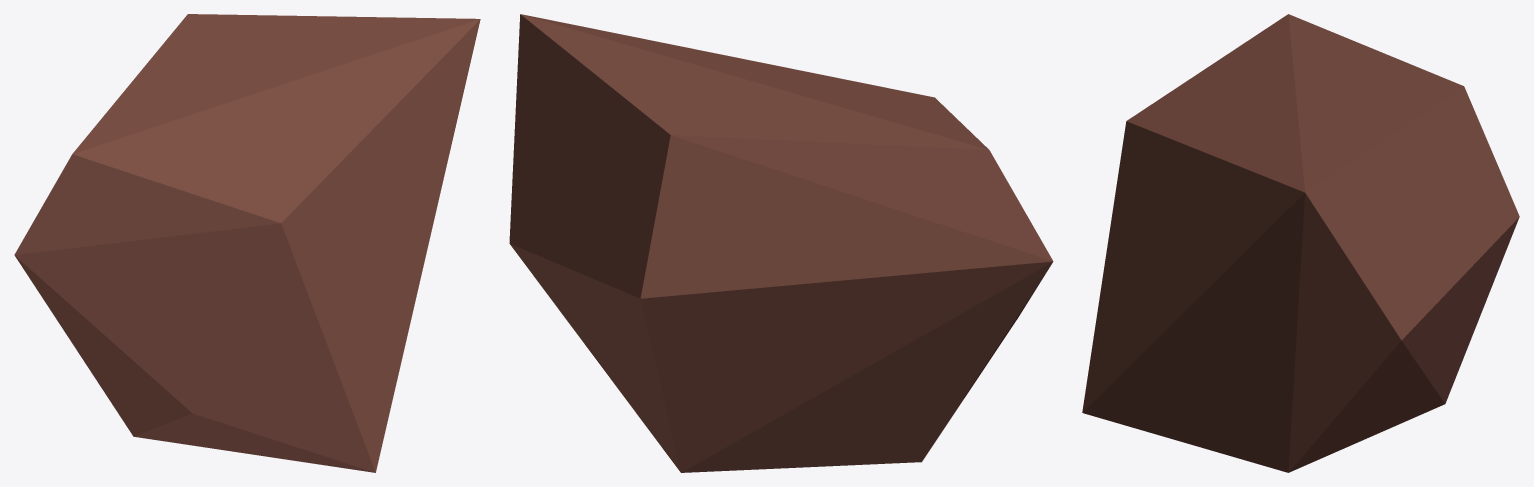
File: Rock-B09.fbx
The picture shows the model from 3 angles, left to right: view 1: azimuth 30°, elevation 25°; view 2: azimuth 150°, elevation 25°; view 3: azimuth 270°, elevation 25°; orthographic projection. The views are drawn at different scales.
Parts seen in each view (by area): view 1: Rock-B09; view 2: Rock-B09; view 3: Rock-B09.
Boxes of the visible parts, <box> form: Rock-B09: <box>14,14,480,472</box>; Rock-B09: <box>509,14,1053,472</box>; Rock-B09: <box>1082,14,1519,472</box>.
Size of the model in its own units: 56.97 by 37.4 by 44.75.
